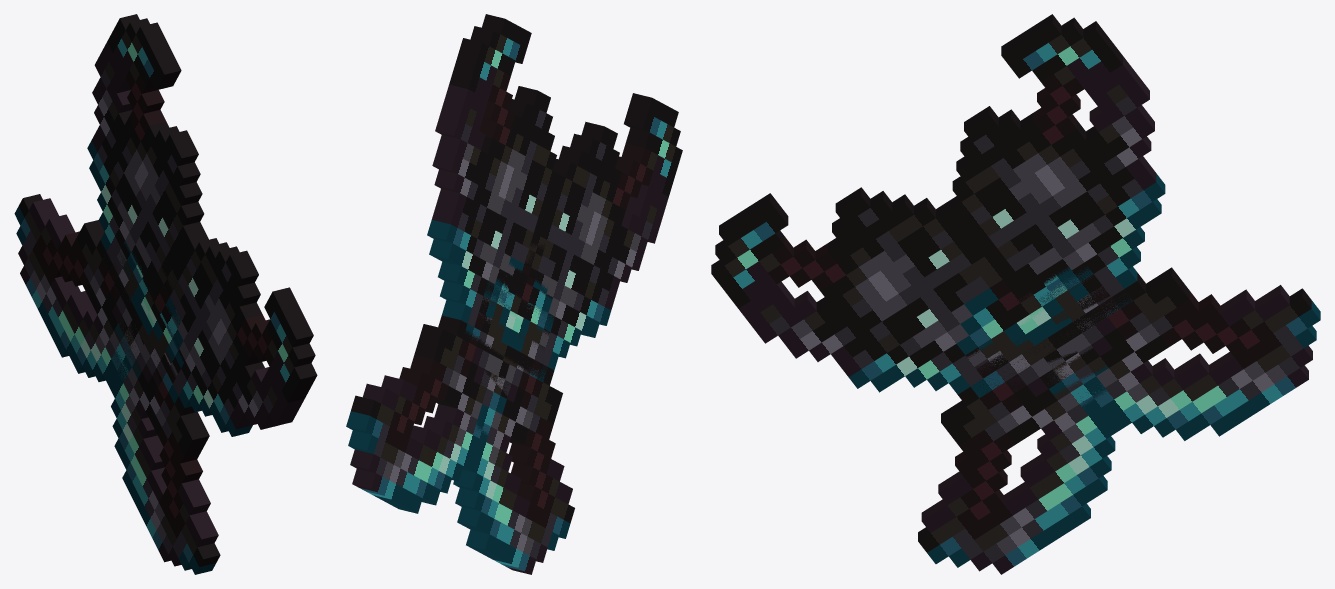
File: cursed_molten_blazing_sword.glb
3 views of the same model, side by side, from view 1: azimuth 30°, elevation 25°; view 2: azimuth 150°, elevation 25°; view 3: azimuth 270°, elevation 25° (orthographic). The views are drawn at different scales.
Parts seen in each view (by area): view 1: off__Tool_L, main__Tool_R; view 2: off__Tool_L, main__Tool_R; view 3: main__Tool_R, off__Tool_L.
Part boxes in pixels (x1,y1,x2,y2): off__Tool_L: (87, 14, 220, 574); main__Tool_R: (14, 194, 317, 436); off__Tool_L: (427, 14, 574, 574); main__Tool_R: (346, 93, 682, 513); main__Tool_R: (711, 187, 1320, 440); off__Tool_L: (918, 14, 1165, 574).
Bounding box in the file's own units: 0.0813 × 2.33 × 2.33.
1 material, 1 textured.
